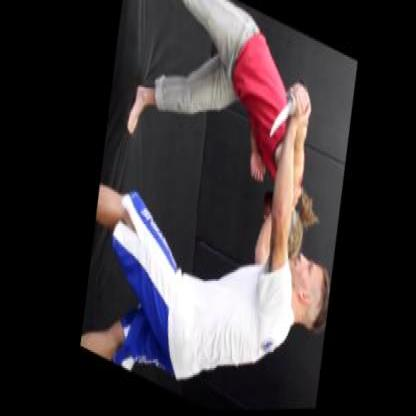knife: (260, 59, 312, 157)
